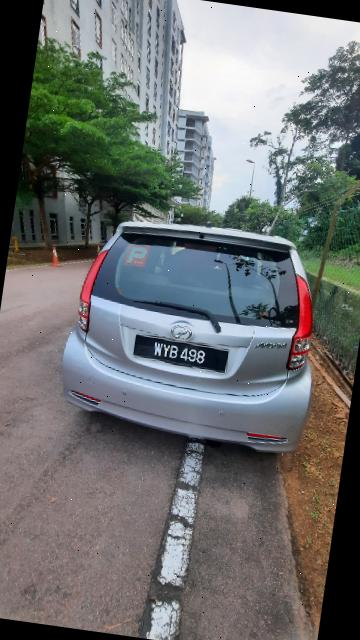License_Plate: (132, 329, 234, 377)
car: (48, 205, 335, 470)
